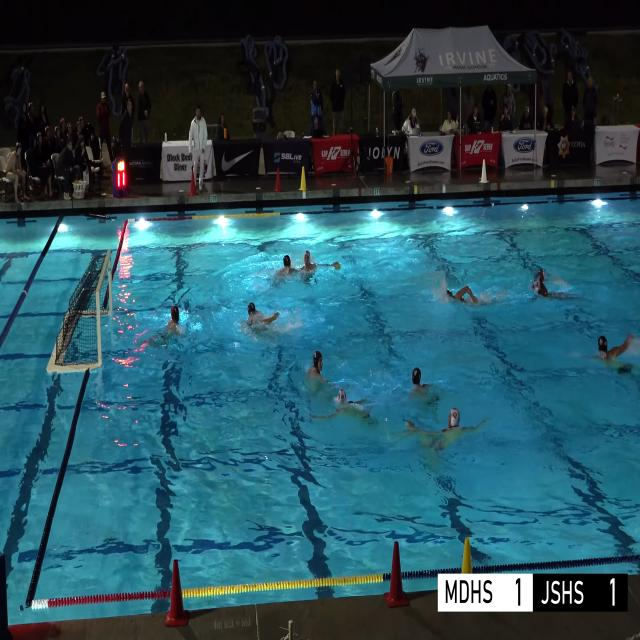ball: (334, 263, 340, 270), (74, 180, 79, 183)
